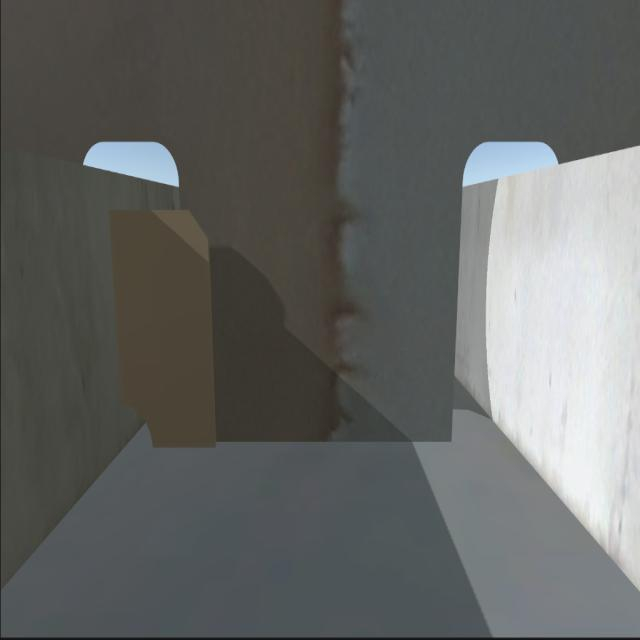fillet_hole: (122, 406, 154, 454)
fillet_yong_jeop_jang: (158, 434, 458, 459)
longi_yong_jeop_jang: (105, 208, 128, 408)
plate_CP03: (114, 208, 215, 452)
